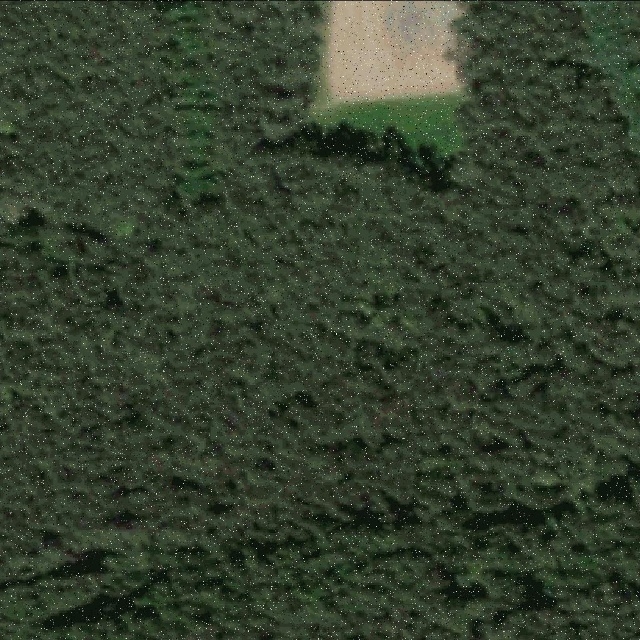vegetation: (2, 0, 640, 638)
